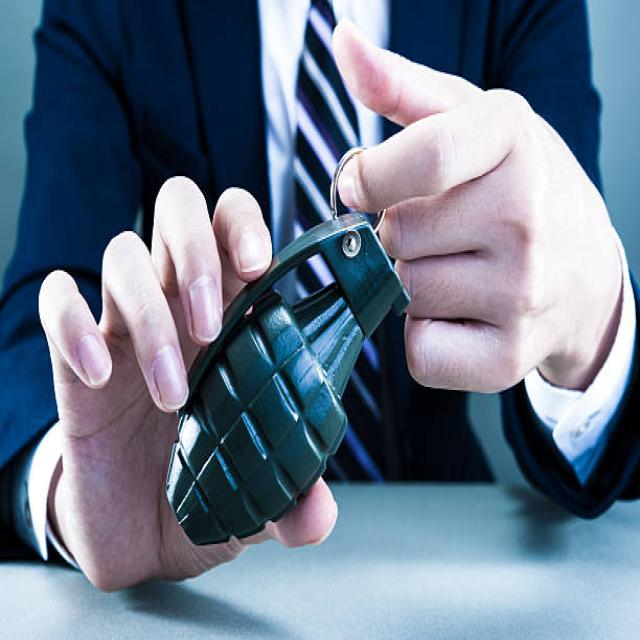grenade: (158, 142, 412, 558)
